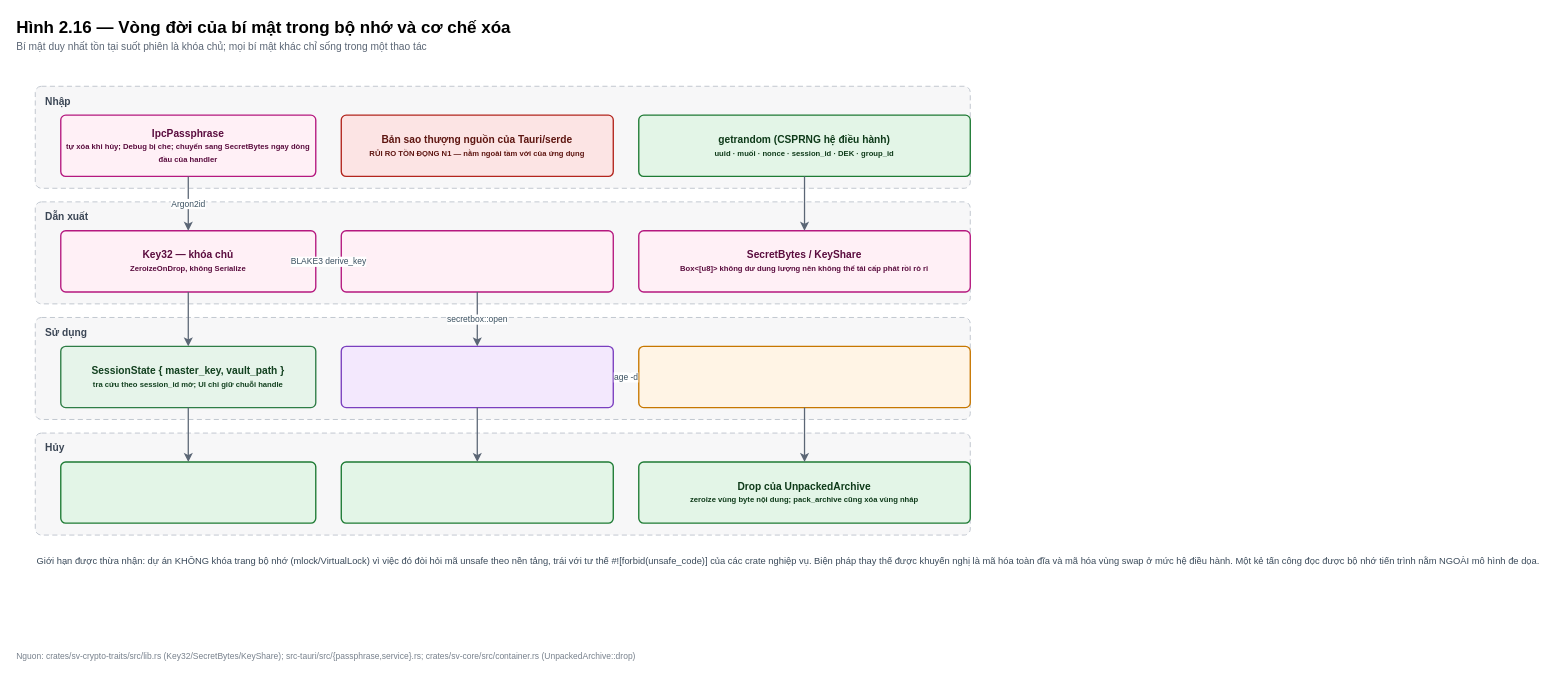
Image size: 1554x676. Some labels were removed from this diagram. The shapes that lost their labels are listed below. From the top down, each one's centre as x and y in pixels, then its label:
At (x=477, y=261): "Key32 — khóa bọc theo trường sinh lại mỗi thao tác, không lưu ở đâu".
At (x=477, y=376): "Danh tính age tạm thời ghi ra tệp tạm 0600 chỉ trong một lệnh age -d".
At (x=804, y=376): "UnpackedArchive.item_bytes vùng dữ liệu rõ của các mục".
At (x=188, y=492): "vault_lock xóa khỏi bảng phiên ⇒ Key32 bị ghi 0".
At (x=477, y=492): "Drop của SecureIdentityFile ghi đè bằng 0 rồi unlink (nỗ lực tối đa)".
